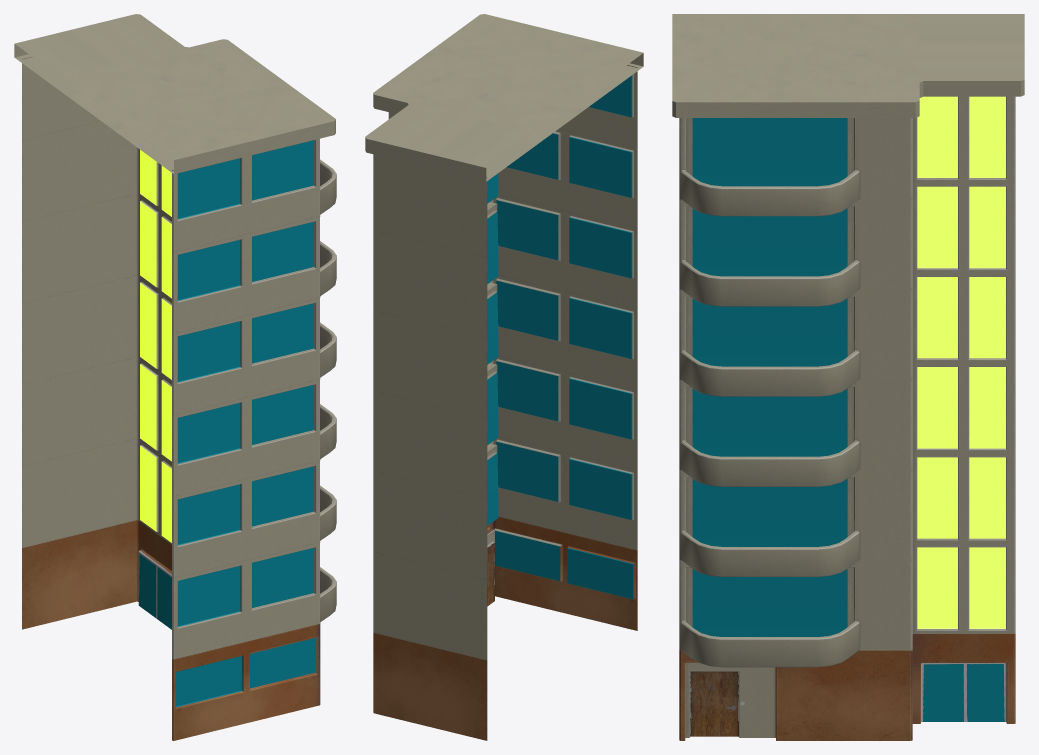
The model's file is Apartment3.fbx.
3 views of the same model, side by side, from view 1: azimuth 30°, elevation 25°; view 2: azimuth 150°, elevation 25°; view 3: azimuth 270°, elevation 25° (orthographic). The views are drawn at different scales.
Visible parts, largest first — view 1: Cube; view 2: Cube; view 3: Cube.
Boxes of the visible parts, x1,y1,x2,y2 form: Cube: (14, 14, 336, 740); Cube: (365, 14, 643, 740); Cube: (672, 14, 1024, 740).
Size of the model in its own units: 467 by 1432 by 709.
